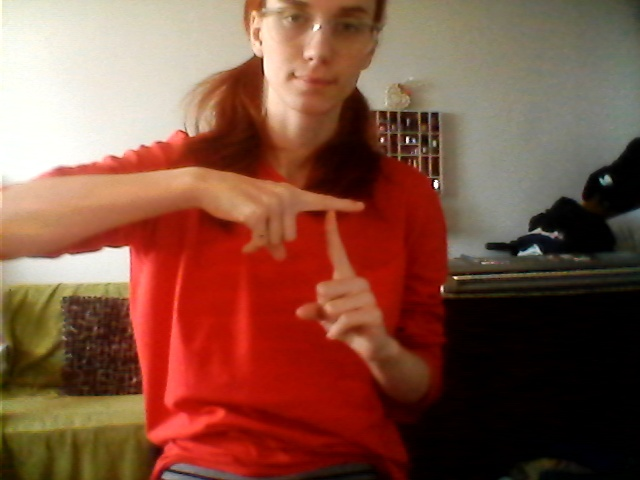t: (251, 174, 391, 352)
